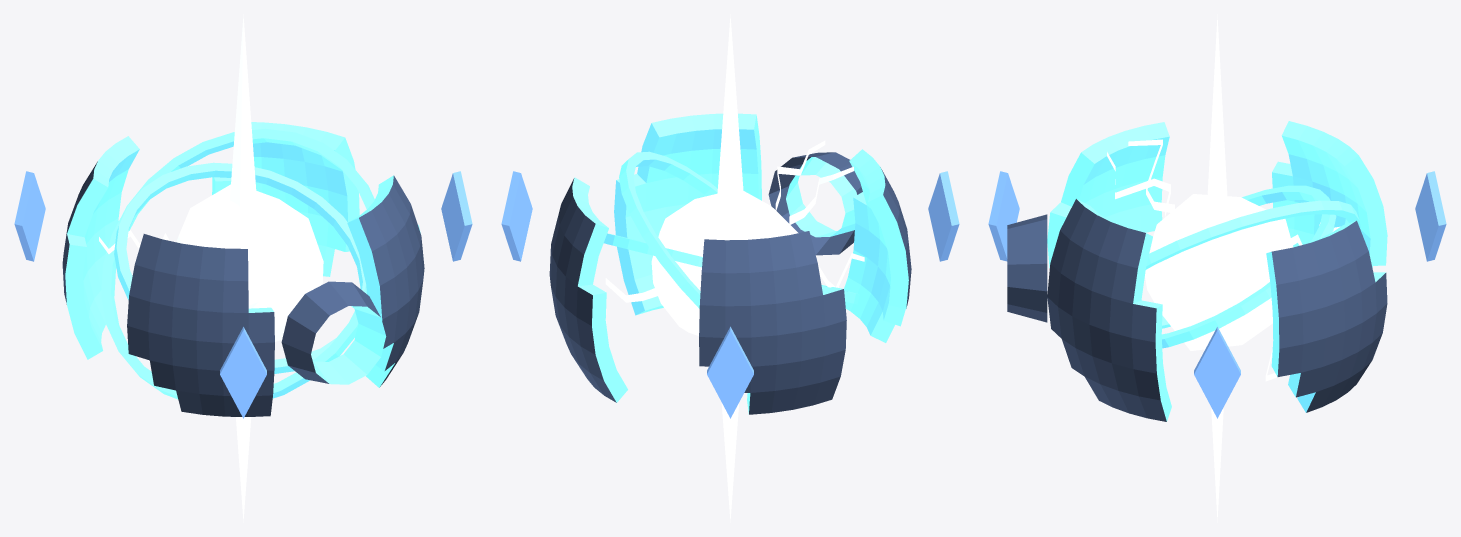
Rendered from orb.glb.
3 views of the same model, side by side, from view 1: azimuth 30°, elevation 25°; view 2: azimuth 150°, elevation 25°; view 3: azimuth 270°, elevation 25° (orthographic).
Parts seen in each view (by area): view 1: Fragment_03, CoreEnergy, Fragment_04, Fragment_02, Fragment_01, BeamEmitter, EnergyRing_B, RuneFragments, EnergyRing_A, CoreJets, ArcSegments; view 2: Fragment_02, Fragment_04, Fragment_01, Fragment_03, CoreEnergy, RuneFragments, BeamEmitter, CoreJets, EnergyRing_B, ArcSegments, EnergyRing_A; view 3: Fragment_04, Fragment_01, CoreEnergy, Fragment_03, Fragment_02, RuneFragments, BeamEmitter, EnergyRing_A, EnergyRing_B, CoreJets, ArcSegments.
Boxes of the visible parts, <box> form: Fragment_03: <box>127,234,274,416</box>; CoreEnergy: <box>176,184,323,341</box>; Fragment_04: <box>347,175,424,387</box>; Fragment_02: <box>62,136,139,359</box>; Fragment_01: <box>212,122,359,276</box>; BeamEmitter: <box>281,281,386,384</box>; EnergyRing_B: <box>101,128,374,399</box>; RuneFragments: <box>14,171,472,418</box>; EnergyRing_A: <box>114,162,365,373</box>; CoreJets: <box>230,14,256,522</box>; ArcSegments: <box>99,213,275,308</box>; Fragment_02: <box>699,231,846,414</box>; Fragment_04: <box>614,113,761,315</box>; Fragment_01: <box>549,177,627,402</box>; Fragment_03: <box>844,149,911,342</box>; CoreEnergy: <box>651,191,798,335</box>; RuneFragments: <box>501,171,959,418</box>; BeamEmitter: <box>768,152,862,255</box>; CoreJets: <box>717,14,743,522</box>; EnergyRing_B: <box>619,151,717,308</box>; ArcSegments: <box>605,140,864,323</box>; EnergyRing_A: <box>604,233,859,304</box>; Fragment_04: <box>1047,199,1171,421</box>; Fragment_01: <box>1266,220,1387,412</box>; CoreEnergy: <box>1145,194,1293,350</box>; Fragment_03: <box>1047,122,1169,267</box>; Fragment_02: <box>1272,121,1387,267</box>; RuneFragments: <box>988,171,1446,418</box>; BeamEmitter: <box>1007,214,1047,322</box>; EnergyRing_A: <box>1161,185,1336,348</box>; EnergyRing_B: <box>1145,200,1359,328</box>; CoreJets: <box>1207,14,1227,522</box>; ArcSegments: <box>1107,139,1340,381</box>.
Size of the model in its own units: 2.32 by 3.1 by 2.53.
